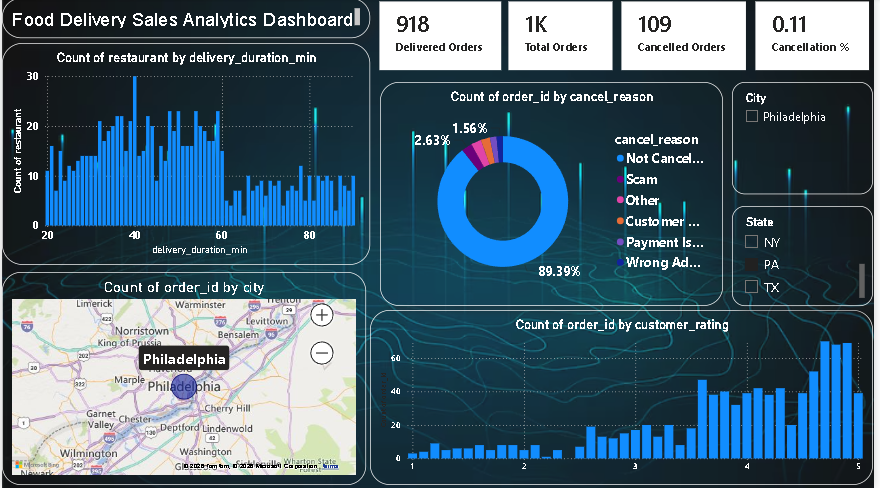

This screenshot's page, from the dashboard's own definition file:
{"tool":"powerbi","page":{"name":"Page 1","canvas":[1280,720],"ordinal":0},"visuals":[{"type":"textbox","box":[0,0,540.9,58.8],"z":0},{"type":"cardVisual","fields":{"Data":["food_delivery food_delivery_orders.Total Orders"]},"box":[739.1,0,163.1,111.7],"z":1000},{"type":"cardVisual","fields":{"Data":["food_delivery food_delivery_orders.Cancellation %"]},"box":[1102,0,177.8,111.7],"z":2000},{"type":"cardVisual","fields":{"Data":["food_delivery food_delivery_orders.Cancelled Orders"]},"box":[905.1,0,194,111.7],"z":3000},{"type":"cardVisual","fields":{"Data":["food_delivery food_delivery_orders.Delivered Orders"]},"box":[549.6,0,189.6,111.7],"z":4000},{"type":"map","fields":{"Category":["food_delivery food_delivery_orders.city"],"Size":["CountNonNull(food_delivery food_delivery_orders.order_id)"]},"box":[0,402.6,534.9,313],"z":5000},{"type":"donutChart","fields":{"Category":["food_delivery food_delivery_orders.cancel_reason"],"Y":["CountNonNull(food_delivery food_delivery_orders.order_id)"]},"box":[555.4,123.4,504,329.1],"z":6000},{"type":"clusteredColumnChart","fields":{"Category":["food_delivery food_delivery_orders.customer_rating"],"Y":["CountNonNull(food_delivery food_delivery_orders.order_id)"]},"box":[540.7,458.4,739.1,257.1],"z":7000},{"type":"columnChart","fields":{"Y":["CountNonNull(food_delivery food_delivery_orders.restaurant)"],"Category":["food_delivery food_delivery_orders.delivery_duration_min"]},"box":[0,66.1,540.7,326.2],"z":8000},{"type":"slicer","fields":{"Values":["food_delivery food_delivery_orders.city"]},"box":[1072.7,123.4,207.2,164.6],"z":9000},{"type":"slicer","fields":{"Values":["food_delivery food_delivery_orders.state"]},"box":[1072.7,305.6,207.2,146.9],"z":10000}]}

Visuals, with their boxes in screenshot pixels (x1, y1, x2, y2), scaled from the page's 1280x720 canvas onto the 880x488 screenshot:
textbox: <region>0, 0, 372, 40</region>
cardVisual - food_delivery food_delivery_orders.Total Orders: <region>508, 0, 620, 76</region>
cardVisual - food_delivery food_delivery_orders.Cancellation %: <region>758, 0, 879, 76</region>
cardVisual - food_delivery food_delivery_orders.Cancelled Orders: <region>622, 0, 756, 76</region>
cardVisual - food_delivery food_delivery_orders.Delivered Orders: <region>378, 0, 508, 76</region>
map - food_delivery food_delivery_orders.city x CountNonNull(food_delivery food_delivery_orders.order_id): <region>0, 273, 368, 485</region>
donutChart - food_delivery food_delivery_orders.cancel_reason x CountNonNull(food_delivery food_delivery_orders.order_id): <region>382, 84, 728, 307</region>
clusteredColumnChart - food_delivery food_delivery_orders.customer_rating x CountNonNull(food_delivery food_delivery_orders.order_id): <region>372, 311, 879, 485</region>
columnChart - CountNonNull(food_delivery food_delivery_orders.restaurant) x food_delivery food_delivery_orders.delivery_duration_min: <region>0, 45, 372, 266</region>
slicer - food_delivery food_delivery_orders.city: <region>737, 84, 879, 195</region>
slicer - food_delivery food_delivery_orders.state: <region>737, 207, 879, 307</region>
